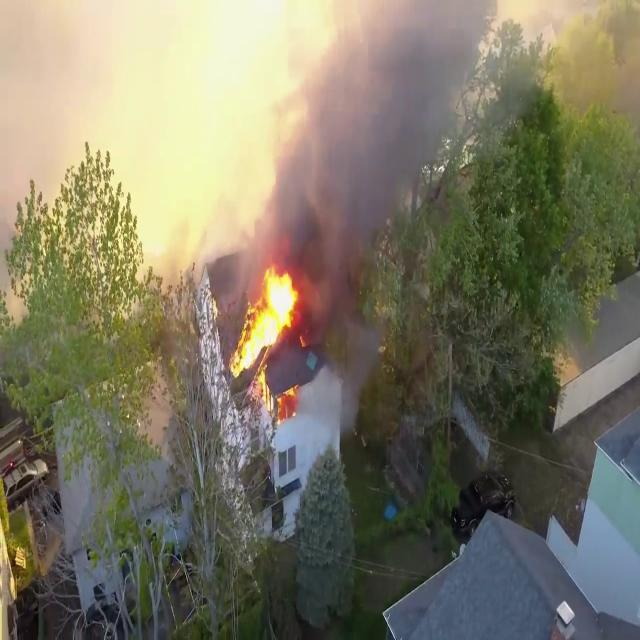Fire: (216, 256, 302, 391)
Smoke: (222, 0, 481, 308)
